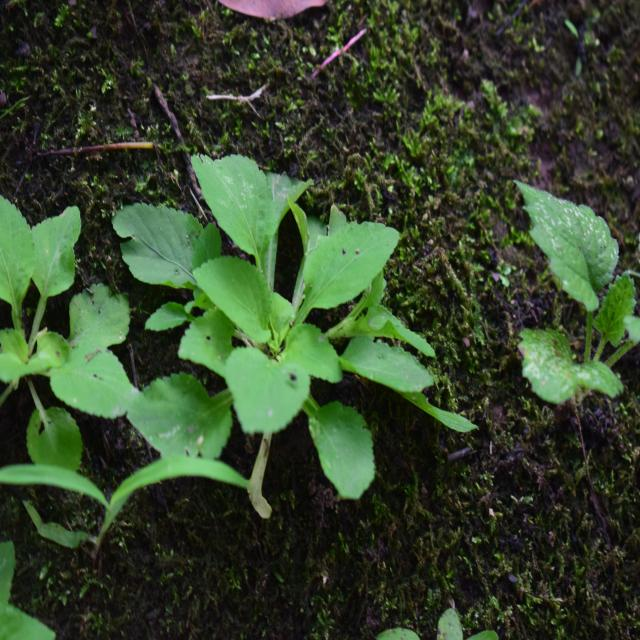Viola: (140, 144, 450, 516)
